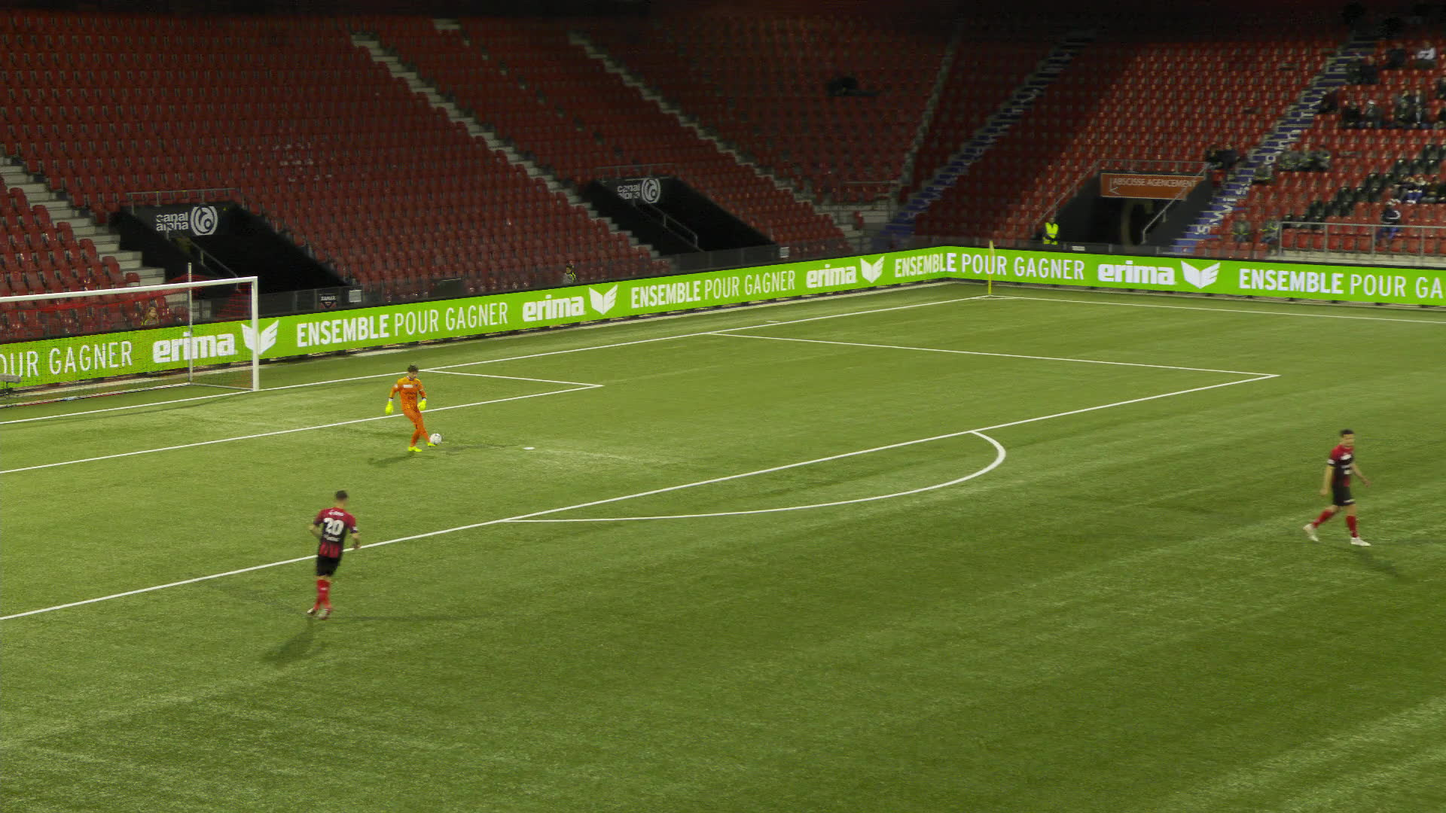ball: (429, 428, 439, 438)
player: (1307, 427, 1368, 545), (313, 492, 368, 620), (384, 362, 432, 451)
